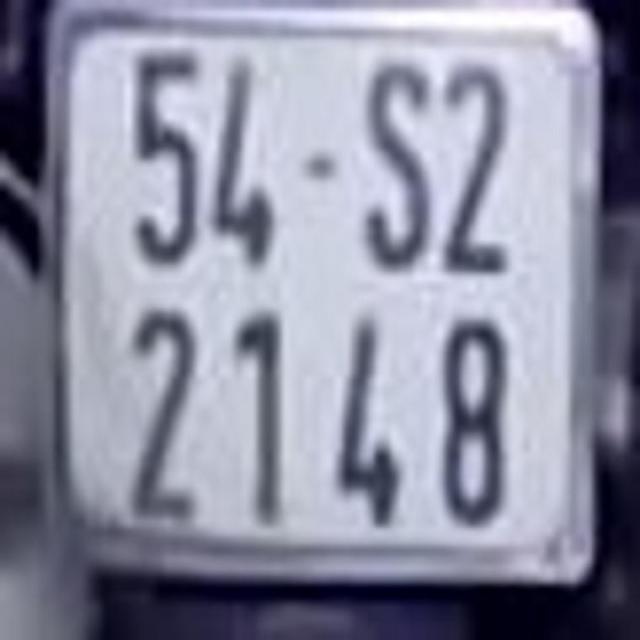1: (225, 304, 290, 528)
2: (439, 51, 513, 274), (129, 305, 203, 520)
4: (328, 300, 402, 532), (205, 49, 279, 266)
5: (126, 43, 200, 263)
8: (432, 306, 514, 532)
S: (362, 51, 434, 274)
